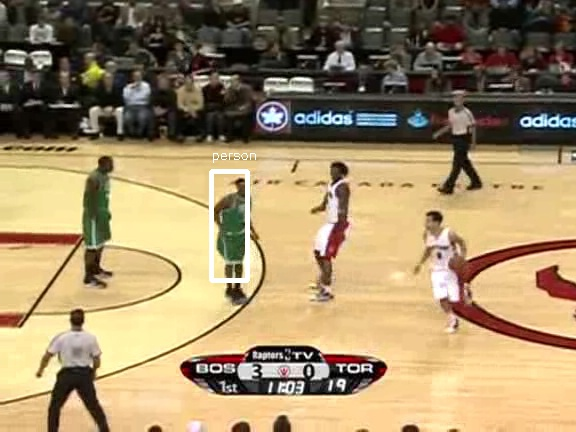person: (222, 188, 256, 269), (221, 188, 255, 269), (223, 188, 257, 269), (222, 187, 256, 268), (222, 189, 256, 270)
target_negative: (139, 203, 338, 427), (496, 24, 503, 430), (245, 407, 443, 421), (82, 400, 186, 424), (111, 259, 398, 262), (289, 370, 292, 392)
